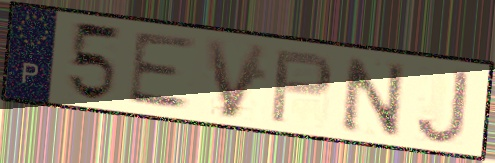5: (66, 17, 122, 104)
E: (124, 31, 200, 113)
J: (413, 67, 472, 147)
N: (340, 53, 408, 139)
P: (267, 48, 337, 126)
V: (201, 35, 273, 122)
